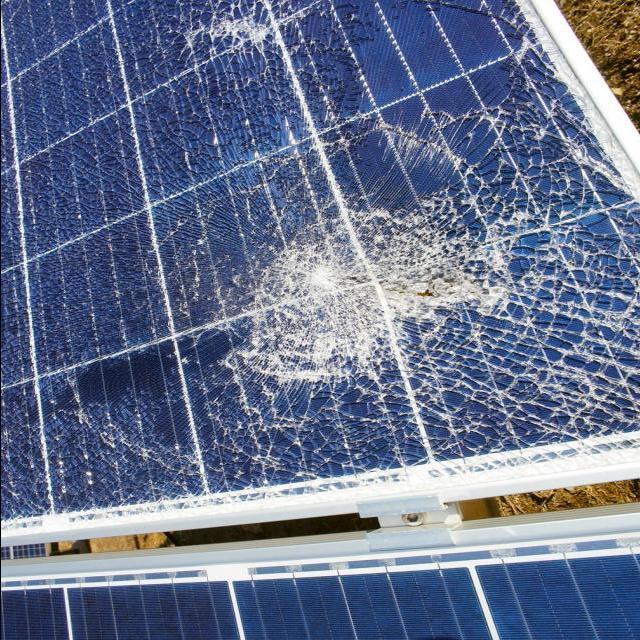cracked: (0, 2, 640, 545)
